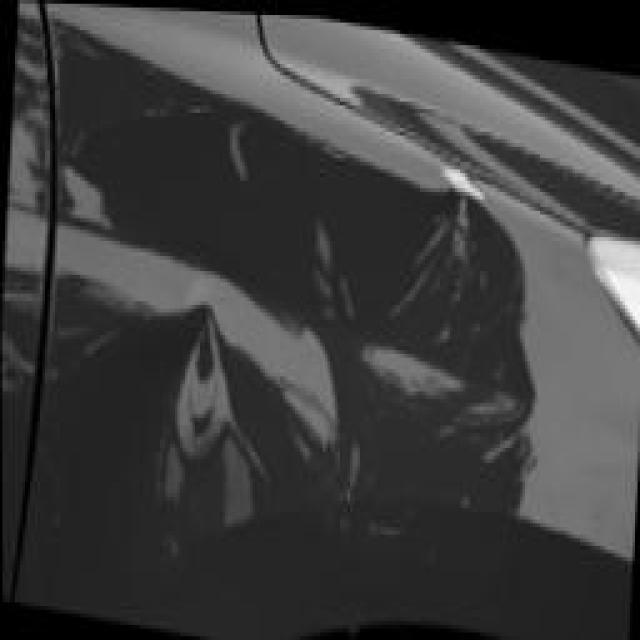Fender: (10, 0, 615, 640)
